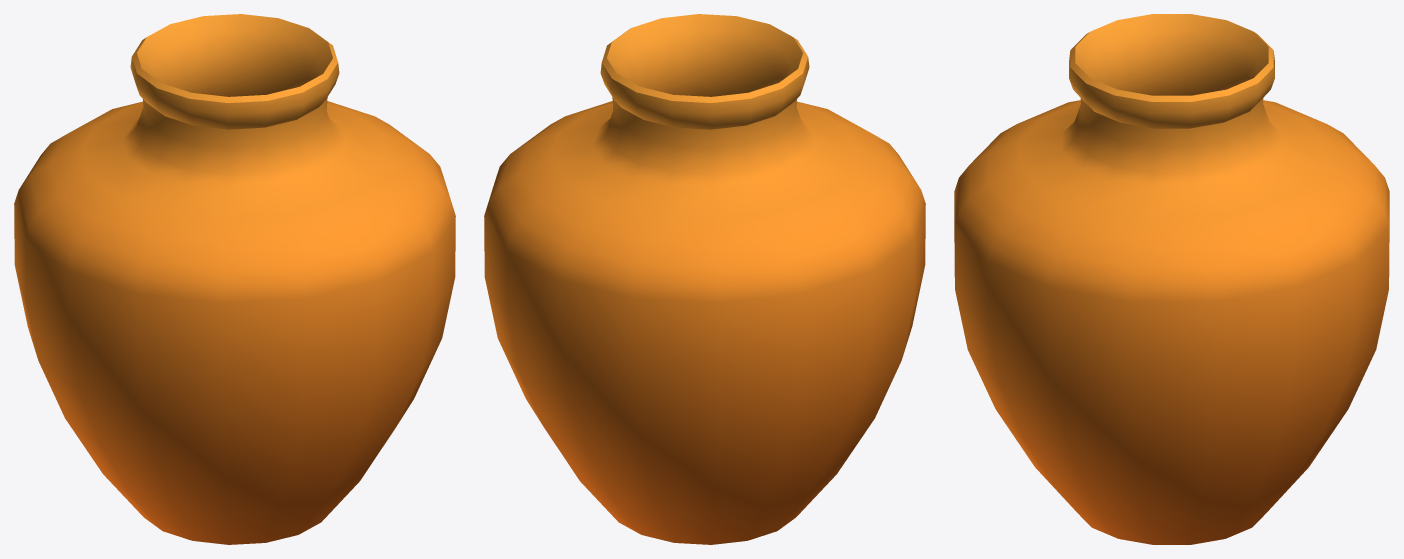
Rendered from Prop_Pottery_Vessel_01.fbx.
3 renders of one model, left to right at view 1: azimuth 30°, elevation 25°; view 2: azimuth 150°, elevation 25°; view 3: azimuth 270°, elevation 25°, orthographic.
Visible parts, largest first — view 1: Prop_Pottery_Vessel_01; view 2: Prop_Pottery_Vessel_01; view 3: Prop_Pottery_Vessel_01.
Part boxes in pixels (<box>): Prop_Pottery_Vessel_01: <box>14,14,455,544</box>; Prop_Pottery_Vessel_01: <box>484,14,925,544</box>; Prop_Pottery_Vessel_01: <box>954,14,1389,544</box>.
Size of the model in its own units: 90.15 by 103 by 90.15.
